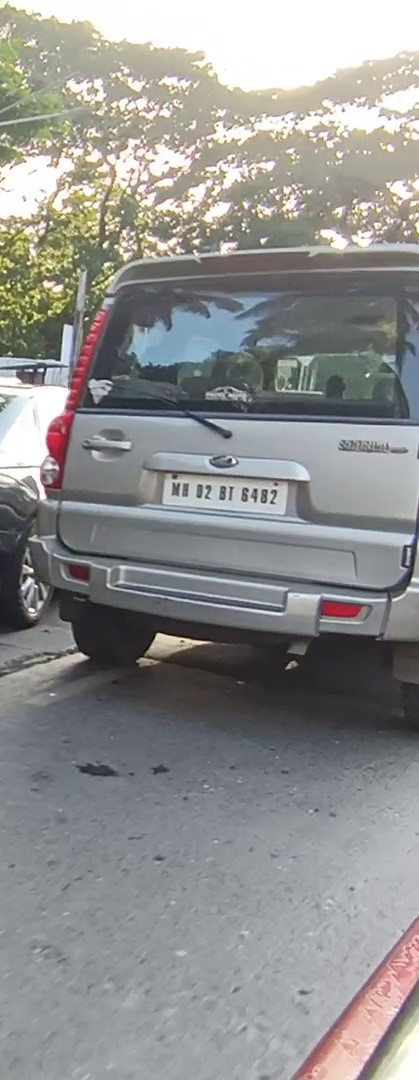MH02BT6482: (162, 474, 290, 515)
